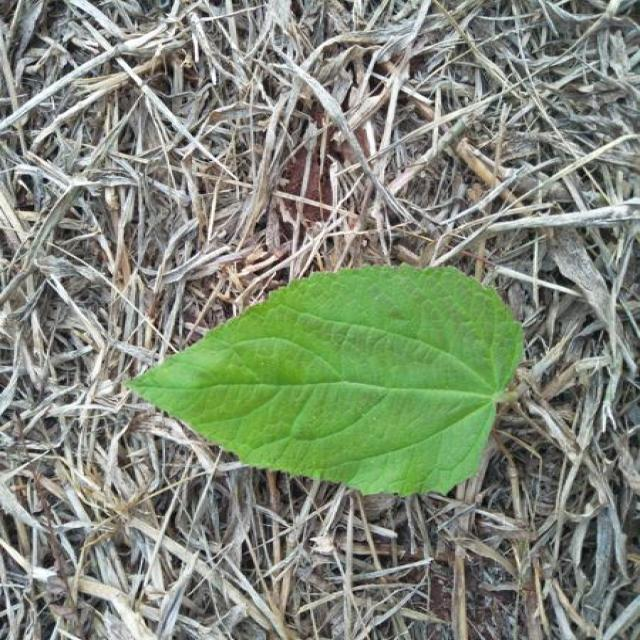gasagase: (132, 266, 522, 494)
